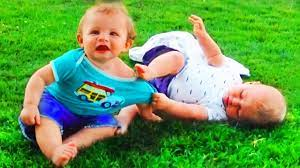child: (20, 2, 288, 165)
